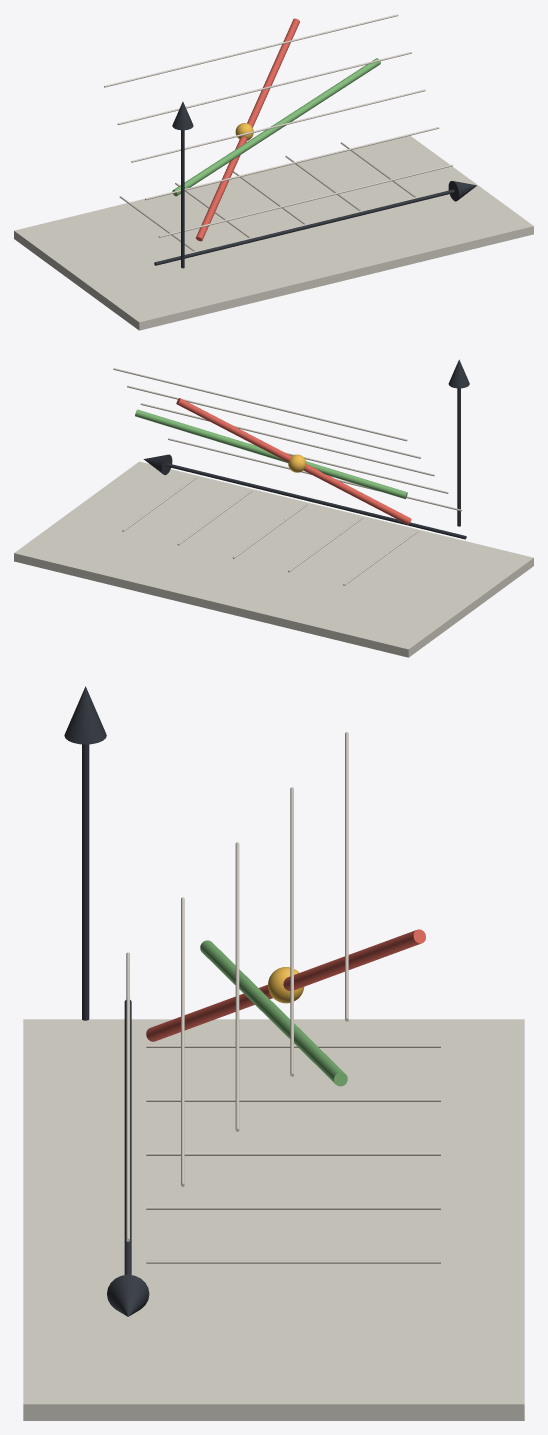
The model's file is math-advanced-math-graphs-comparing-lines.glb.
The picture shows the model from 3 angles, top to bottom: view 1: azimuth 30°, elevation 25°; view 2: azimuth 150°, elevation 25°; view 3: azimuth 270°, elevation 25°; orthographic projection. The views are drawn at different scales.
Parts seen in each view (by area): view 1: advanced-math-base, gentler-line, steeper-line, math-graphs-comparing-lines-x-axis-shaft, math-graphs-comparing-lines-horizontal-grid-5, math-graphs-comparing-lines-horizontal-grid-3, math-graphs-comparing-lines-horizontal-grid-1, math-graphs-comparing-lines-horizontal-grid-2, math-graphs-comparing-lines-horizontal-grid-4, math-graphs-comparing-lines-y-axis-shaft; view 2: advanced-math-base, gentler-line, steeper-line, math-graphs-comparing-lines-x-axis-shaft, math-graphs-comparing-lines-horizontal-grid-5, math-graphs-comparing-lines-horizontal-grid-4, math-graphs-comparing-lines-horizontal-grid-3, math-graphs-comparing-lines-horizontal-grid-1, math-graphs-comparing-lines-y-axis-shaft, math-graphs-comparing-lines-horizontal-grid-2, math-graphs-comparing-lines-y-axis-head; view 3: advanced-math-base, steeper-line, gentler-line, math-graphs-comparing-lines-y-axis-shaft, math-graphs-comparing-lines-x-axis-shaft, math-graphs-comparing-lines-horizontal-grid-3, math-graphs-comparing-lines-y-axis-head, math-graphs-comparing-lines-x-axis-head, math-graphs-comparing-lines-vertical-grid-4, math-graphs-comparing-lines-vertical-grid-5, math-graphs-comparing-lines-vertical-grid-3, math-graphs-comparing-lines-horizontal-grid-4 (+5 smaller).
Part boxes in pixels (box(x1,y1,x2,y2)): advanced-math-base: box(14, 135, 533, 330); gentler-line: box(172, 58, 380, 196); steeper-line: box(196, 18, 299, 241); math-graphs-comparing-lines-x-axis-shaft: box(154, 189, 454, 265); math-graphs-comparing-lines-horizontal-grid-5: box(104, 14, 398, 87); math-graphs-comparing-lines-horizontal-grid-3: box(131, 89, 425, 162); math-graphs-comparing-lines-horizontal-grid-1: box(158, 164, 452, 237); math-graphs-comparing-lines-horizontal-grid-2: box(145, 127, 439, 200); math-graphs-comparing-lines-horizontal-grid-4: box(117, 52, 411, 124); math-graphs-comparing-lines-y-axis-shaft: box(181, 130, 184, 268); advanced-math-base: box(14, 461, 533, 657); gentler-line: box(135, 409, 407, 499); steeper-line: box(176, 398, 411, 524); math-graphs-comparing-lines-x-axis-shaft: box(166, 463, 466, 539); math-graphs-comparing-lines-horizontal-grid-5: box(113, 368, 407, 441); math-graphs-comparing-lines-horizontal-grid-4: box(127, 385, 420, 458); math-graphs-comparing-lines-horizontal-grid-3: box(140, 403, 434, 476); math-graphs-comparing-lines-horizontal-grid-1: box(168, 438, 462, 511); math-graphs-comparing-lines-y-axis-shaft: box(457, 388, 460, 526); math-graphs-comparing-lines-horizontal-grid-2: box(251, 444, 448, 493); math-graphs-comparing-lines-y-axis-head: box(448, 359, 469, 388); advanced-math-base: box(23, 1019, 524, 1420); steeper-line: box(146, 929, 425, 1041); gentler-line: box(200, 940, 347, 1086); math-graphs-comparing-lines-y-axis-shaft: box(82, 744, 89, 1020); math-graphs-comparing-lines-x-axis-shaft: box(124, 1000, 131, 1274); math-graphs-comparing-lines-horizontal-grid-3: box(235, 842, 239, 1131); math-graphs-comparing-lines-y-axis-head: box(64, 686, 106, 744); math-graphs-comparing-lines-x-axis-head: box(107, 1274, 149, 1316); math-graphs-comparing-lines-vertical-grid-4: box(146, 1206, 440, 1209); math-graphs-comparing-lines-vertical-grid-5: box(146, 1260, 440, 1263); math-graphs-comparing-lines-vertical-grid-3: box(146, 1152, 440, 1155); math-graphs-comparing-lines-horizontal-grid-4: box(290, 787, 293, 1076).
Size of what is drawn, in the model's own units: 3 by 1.48 by 1.65.
